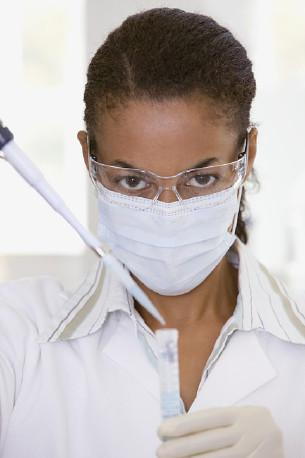OK: (89, 138, 247, 296)
